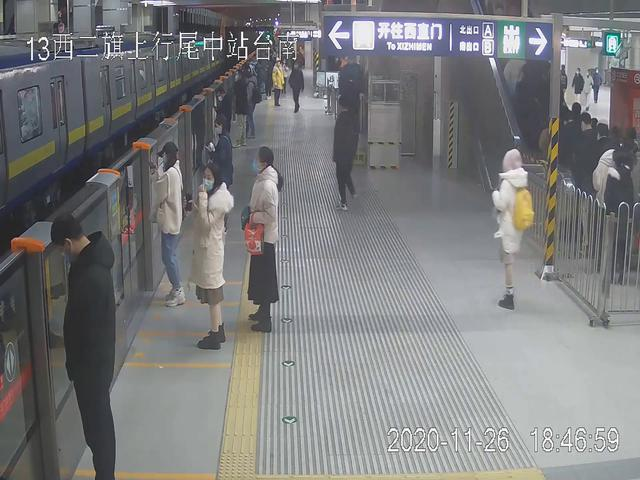person: (49, 213, 121, 480), (491, 147, 534, 311), (191, 163, 228, 350), (244, 146, 279, 333), (152, 142, 190, 307), (330, 94, 360, 217), (208, 114, 234, 236), (267, 56, 287, 108), (289, 61, 306, 114)
